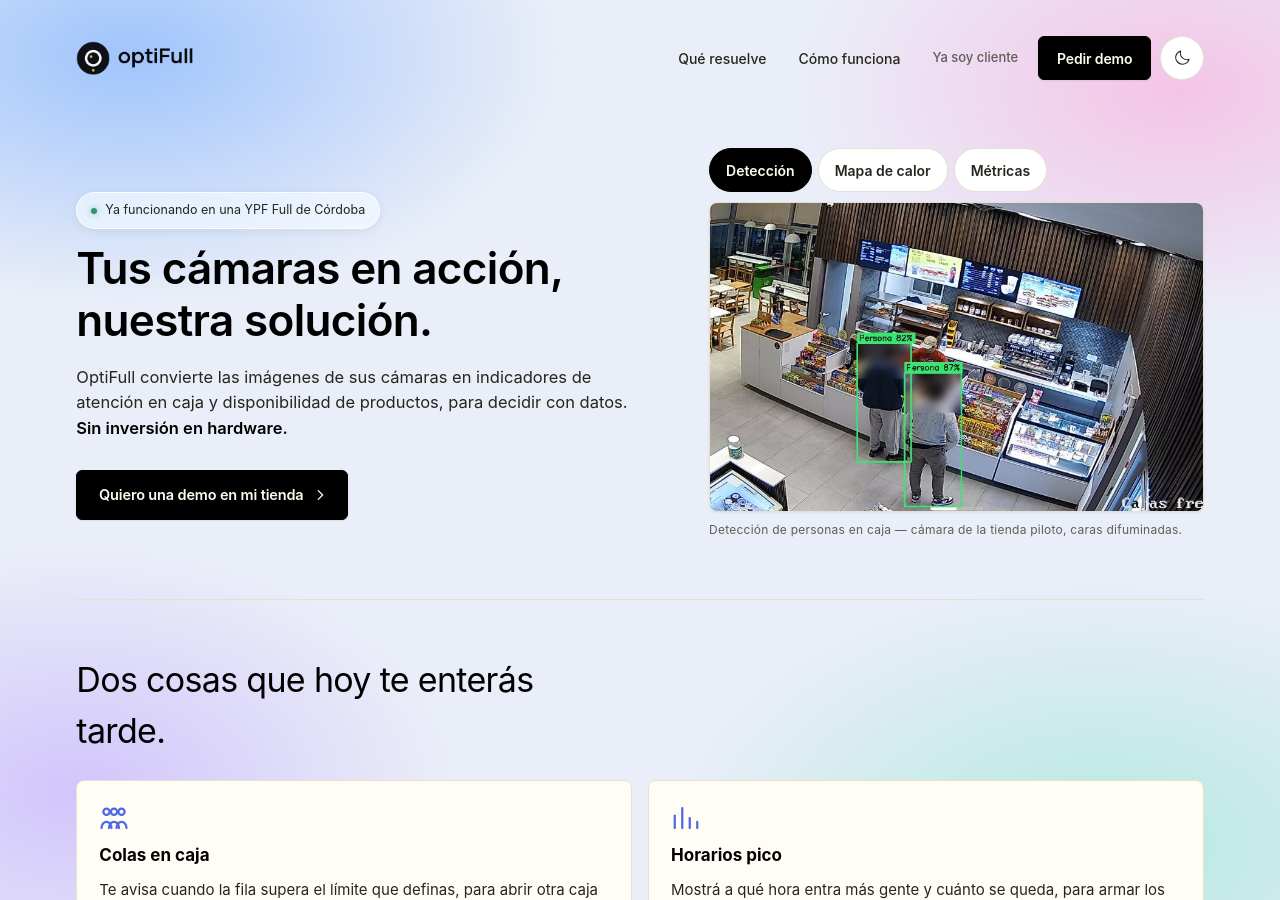
Test: LandingPage: panel de demostración con datos reales › las métricas sin distribución muestran solo los totales
Expected: the text "Ya funcionando en una YPF Full de Córdoba" is shown, left=105, top=201, right=365, bottom=220
Click the tab "Métricas" at (1000, 170), box left=954, top=148, right=1047, bottom=192
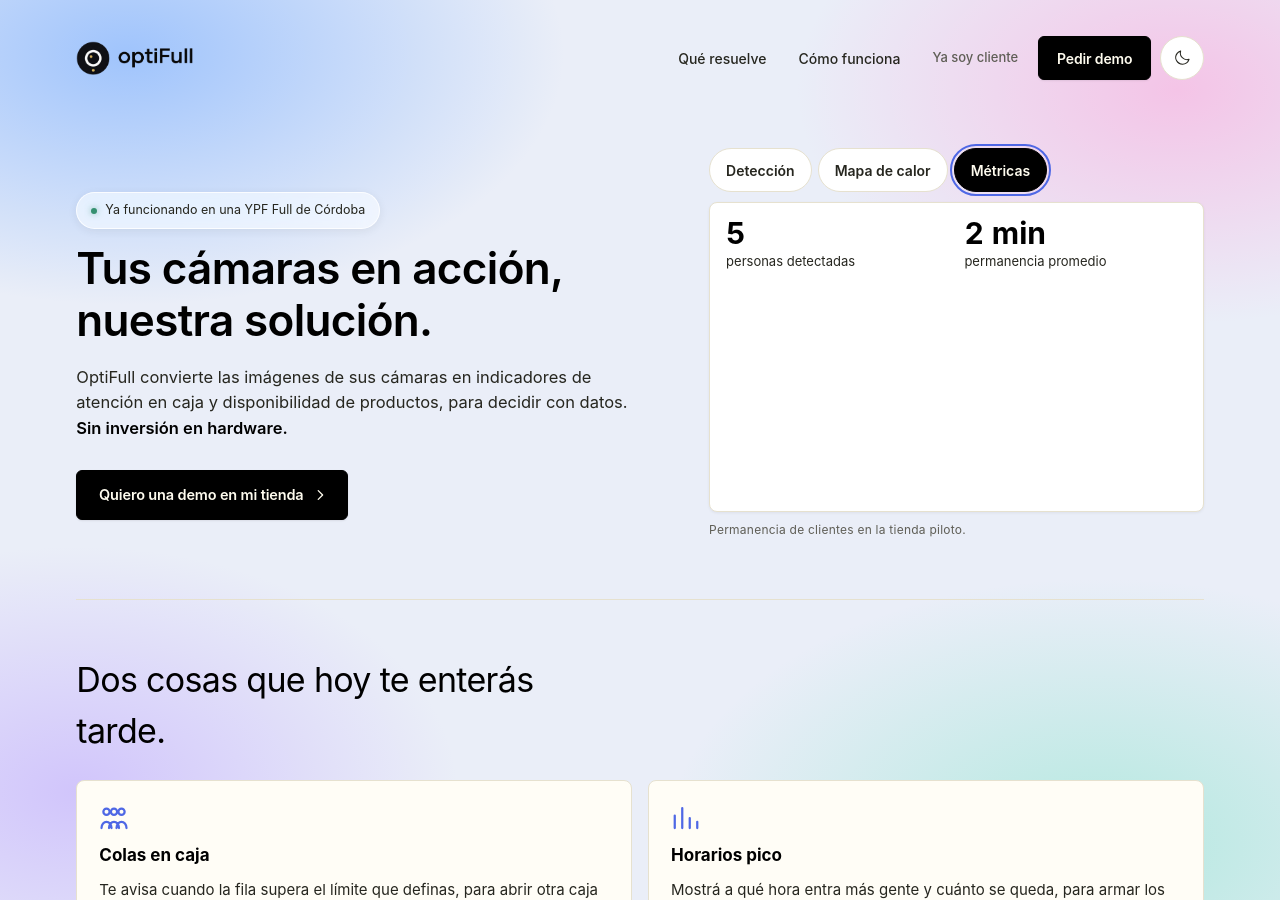
Result: the text "2 min" is shown at left=964, top=215, right=1046, bottom=251
